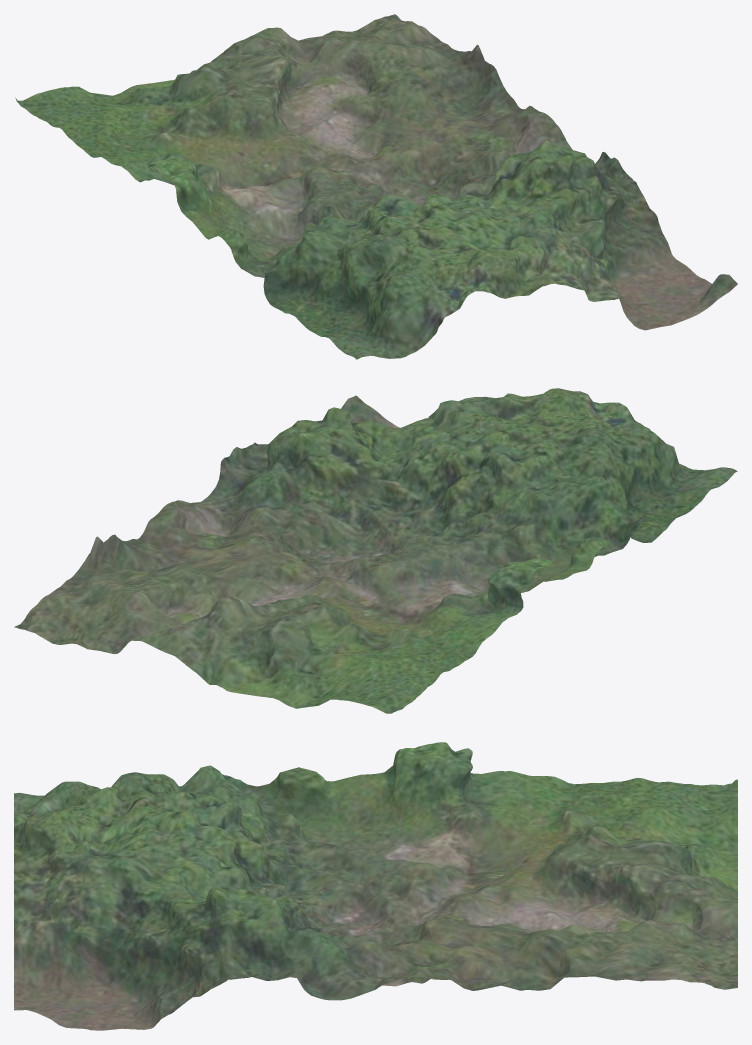
Rendered from Tile__006__008_L22_00002000.glb.
3 views of the same model, one above another, from view 1: azimuth 30°, elevation 25°; view 2: azimuth 150°, elevation 25°; view 3: azimuth 270°, elevation 25° (orthographic). The views are drawn at different scales.
Parts seen in each view (by area): view 1: root; view 2: root; view 3: root.
Boxes of the visible parts, <box> form: root: <box>15,14,737,359</box>; root: <box>14,388,737,713</box>; root: <box>14,742,737,1030</box>.
Size of the model in its own units: 15.44 by 3.97 by 24.03.
Materials: 1 (1 with a texture image).
